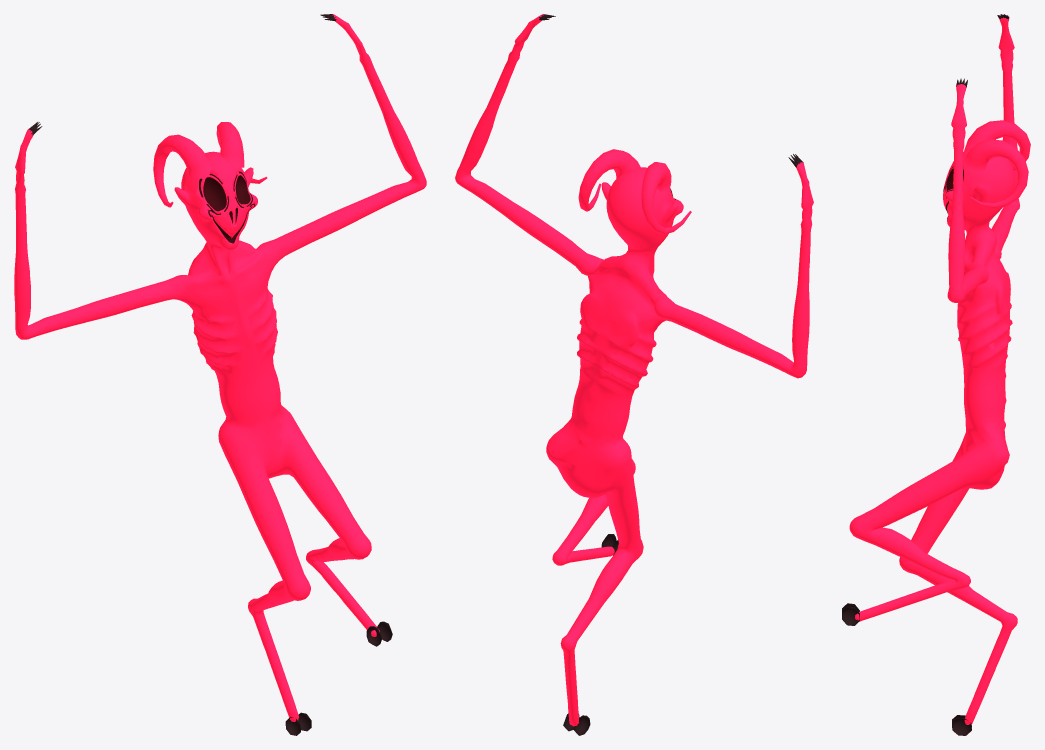
Rendered from devil_dance_b.glb.
3 views of the same model, side by side, from view 1: azimuth 30°, elevation 25°; view 2: azimuth 150°, elevation 25°; view 3: azimuth 270°, elevation 25° (orthographic). The views are drawn at different scales.
Visible parts, largest first — view 1: HWG_Devil_dance_b; view 2: HWG_Devil_dance_b; view 3: HWG_Devil_dance_b.
Part boxes in pixels (x1,y1,x2,y2): HWG_Devil_dance_b: (14, 14, 426, 735); HWG_Devil_dance_b: (455, 14, 813, 735); HWG_Devil_dance_b: (842, 14, 1030, 735).
Bounding box in the file's own units: 0.7434 × 1.32 × 0.3391.
